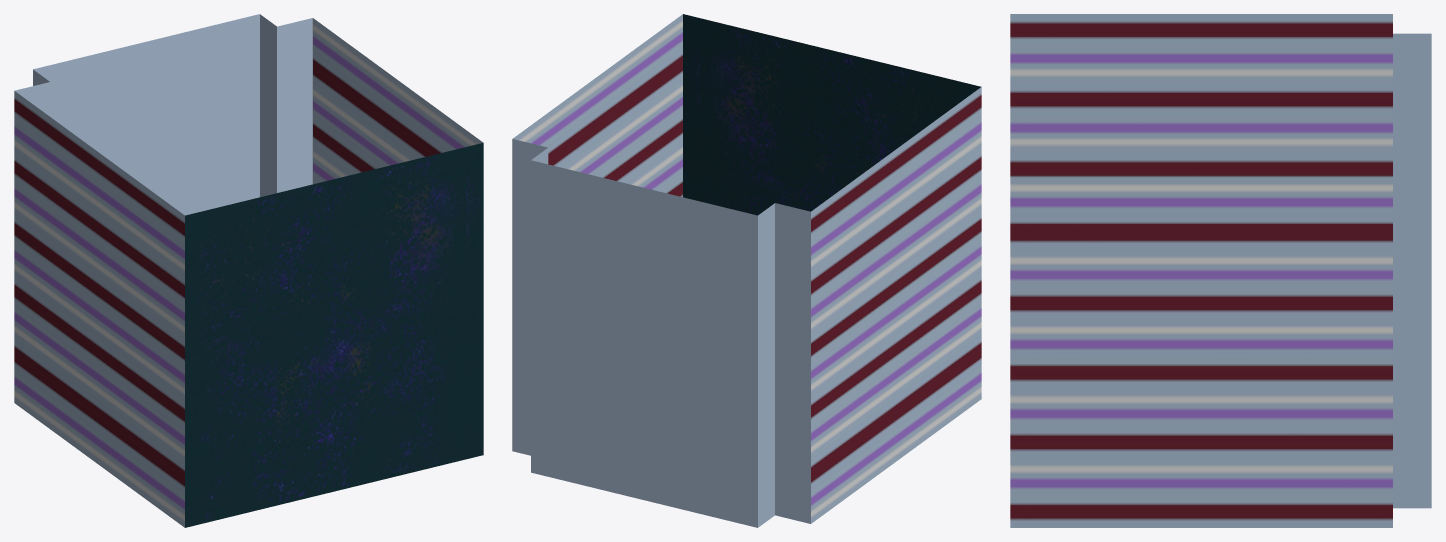
Rendered from Hall_Empty.fbx.
3 renders of one model, left to right at view 1: azimuth 30°, elevation 25°; view 2: azimuth 150°, elevation 25°; view 3: azimuth 270°, elevation 25°, orthographic. The views are drawn at different scales.
Visible parts, largest first — view 1: Hall_Empty; view 2: Hall_Empty; view 3: Hall_Empty.
Part boxes in pixels (box(x1,y1,x2,y2)): Hall_Empty: box(14, 14, 483, 527); Hall_Empty: box(512, 14, 981, 527); Hall_Empty: box(1010, 14, 1431, 527).
Size of the model in its own units: 200 by 200 by 218.
Materials: 2 (2 with a texture image).
